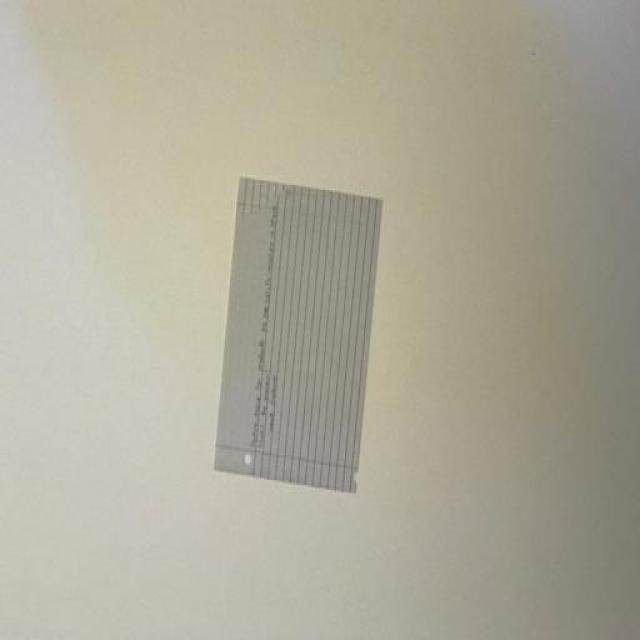Paper: (217, 176, 386, 494)
